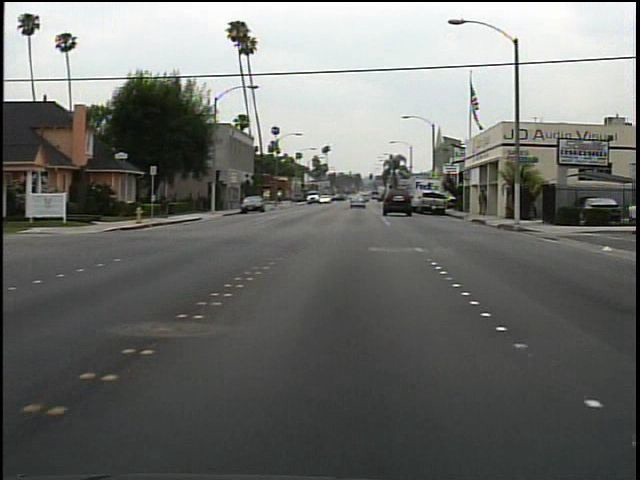person: (476, 187, 494, 219)
